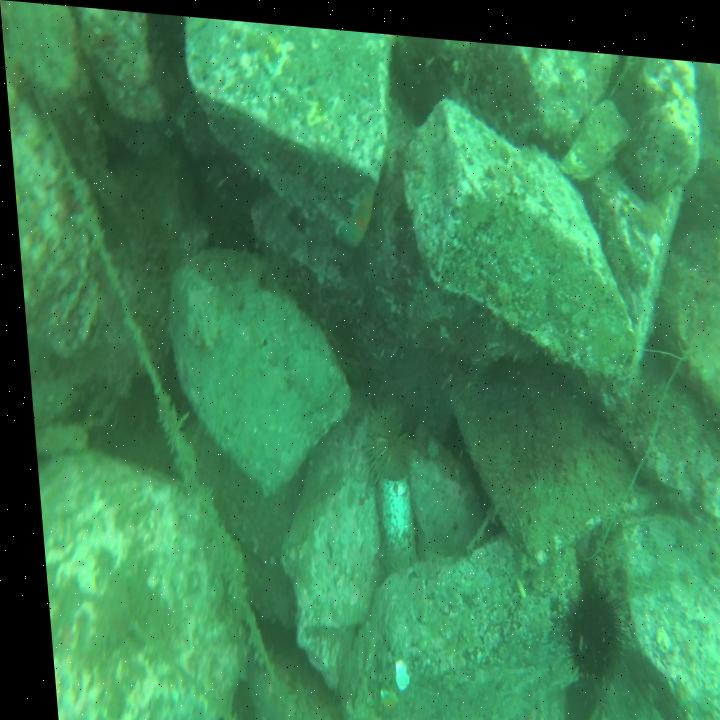echinus: (545, 566, 625, 679), (346, 385, 412, 478)
starfish: (333, 179, 376, 243)
